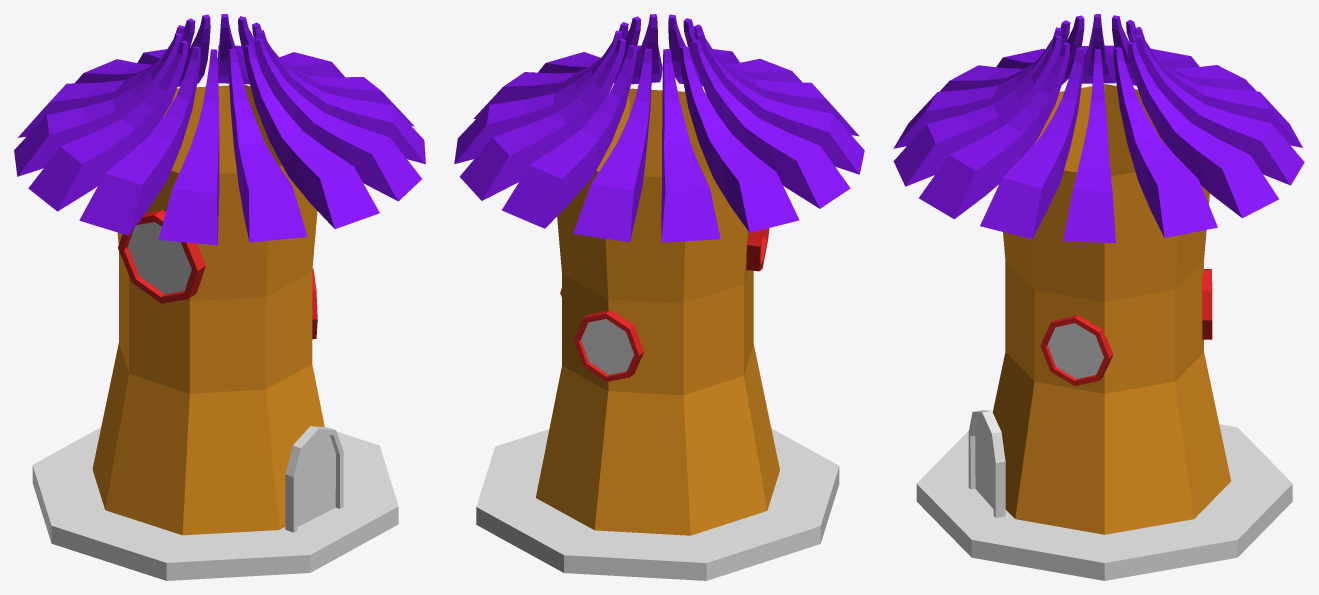
The model's file is SM_TribouliHouseLong_001.fbx.
The picture shows the model from 3 angles, left to right: view 1: azimuth 30°, elevation 25°; view 2: azimuth 150°, elevation 25°; view 3: azimuth 270°, elevation 25°; orthographic projection.
Visible parts, largest first — view 1: Cube.054, Cylinder.028, Plane.055, Cylinder.029, Cylinder.030; view 2: Cylinder.028, Cube.054, Plane.055, Cylinder.032, Cylinder.029; view 3: Cylinder.028, Cube.054, Plane.055, Cylinder.031, Cylinder.030, Cylinder.032.
Part boxes in pixels (box(x1,y1,x2,y2)): Cube.054: box(14, 14, 425, 245); Cylinder.028: box(92, 84, 324, 535); Plane.055: box(32, 427, 398, 580); Cylinder.029: box(118, 209, 205, 303); Cylinder.030: box(285, 426, 343, 532); Cylinder.028: box(536, 88, 779, 535); Cube.054: box(454, 14, 864, 242); Plane.055: box(476, 428, 839, 580); Cylinder.032: box(573, 310, 643, 381); Cylinder.029: box(746, 228, 769, 271); Cylinder.028: box(992, 84, 1230, 534); Cube.054: box(893, 14, 1304, 243); Plane.055: box(916, 424, 1292, 580); Cylinder.031: box(1040, 315, 1113, 385); Cylinder.030: box(968, 410, 1005, 517); Cylinder.032: box(1202, 269, 1212, 339).
Bounding box in the file's own units: 323 × 409 × 325.
